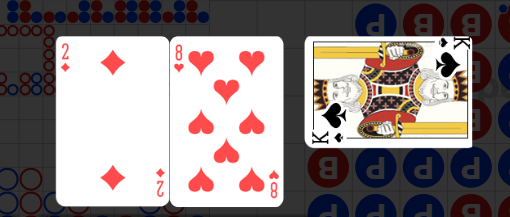2D: (59, 42, 72, 74)
8H: (174, 44, 186, 75)
